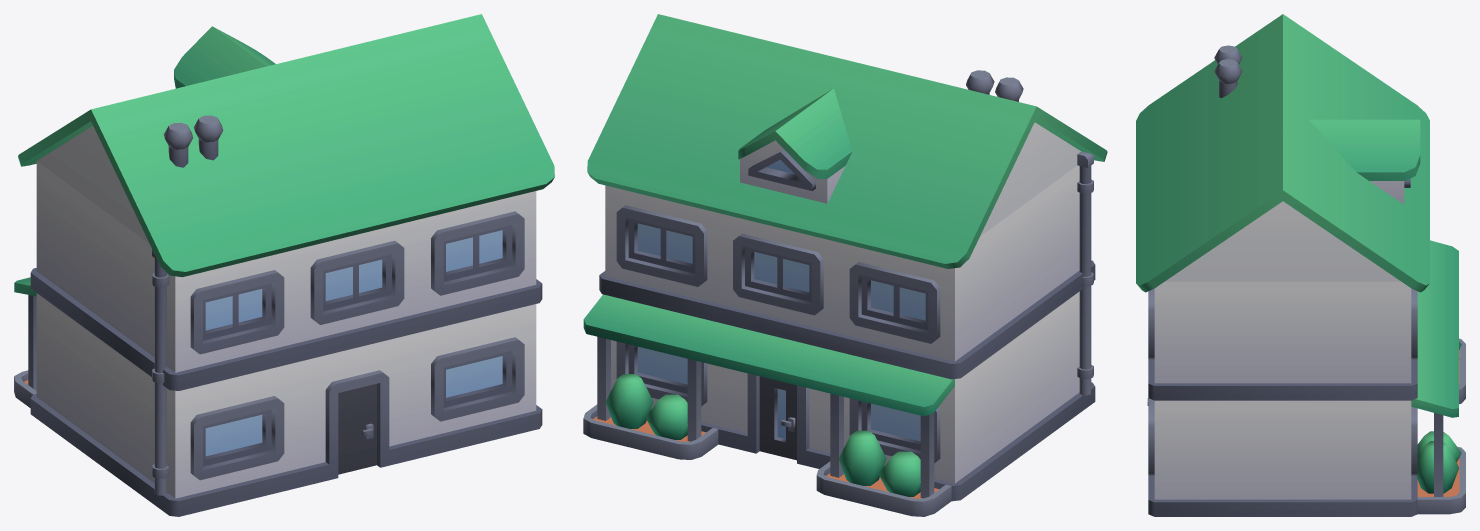
The model's file is kenney-city-suburban-building-type-e.glb.
3 views of the same model, side by side, from view 1: azimuth 30°, elevation 25°; view 2: azimuth 150°, elevation 25°; view 3: azimuth 270°, elevation 25° (orthographic). The views are drawn at different scales.
Visible parts, largest first — view 1: building-type-e; view 2: building-type-e; view 3: building-type-e.
Part boxes in pixels (x1,y1,x2,y2): building-type-e: (14, 14, 554, 516); building-type-e: (583, 14, 1107, 516); building-type-e: (1136, 14, 1465, 516).
Bounding box in the file's own units: 1.3 × 1.14 × 1.03.
Materials: 1 (1 with a texture image).
